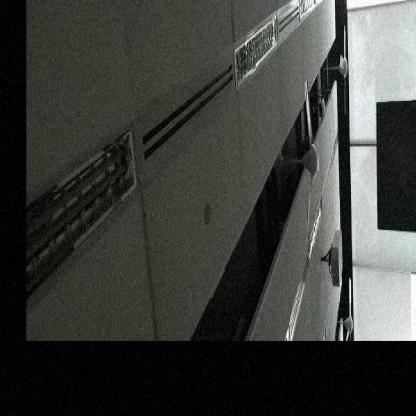light_off: (27, 108, 139, 299), (223, 6, 287, 89)
